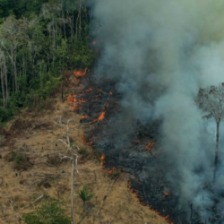incendio: (49, 62, 186, 200), (88, 149, 118, 176), (58, 65, 87, 92), (86, 108, 110, 131)
